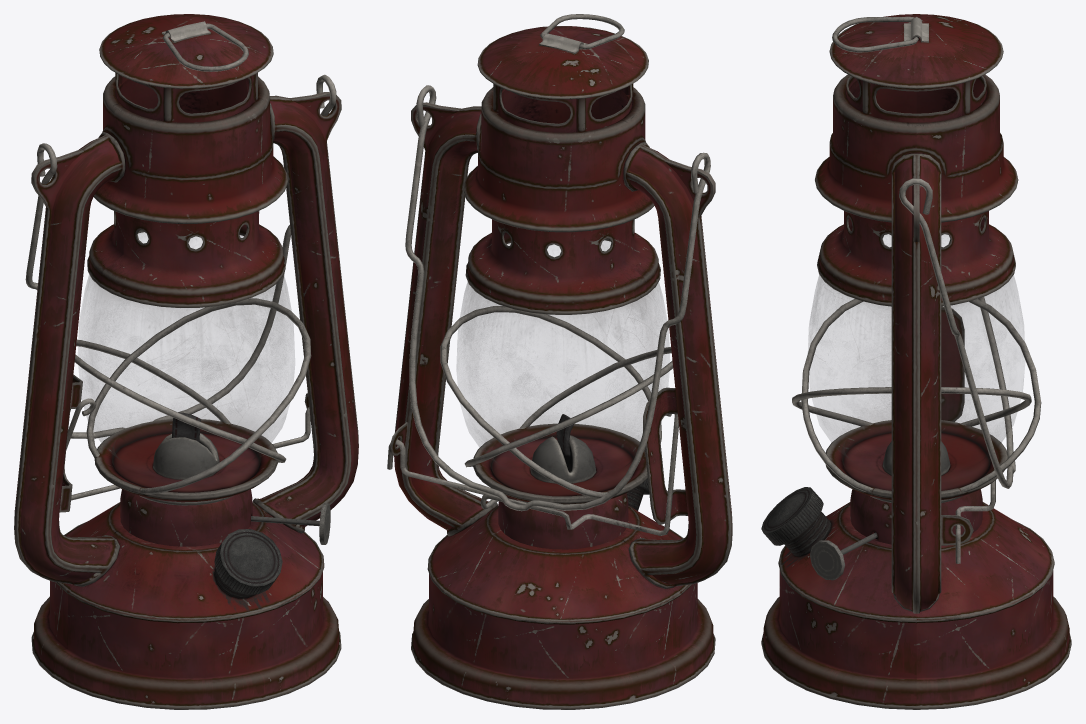
Rendered from lampiao.glb.
3 views of the same model, side by side, from view 1: azimuth 30°, elevation 25°; view 2: azimuth 150°, elevation 25°; view 3: azimuth 270°, elevation 25° (orthographic).
Visible parts, largest first — view 1: Bottom_LOW_solid_0, Handles_LOW_solid_0, Glass_LOW_transparent_0, Top2_LOW_solid_0, Top1_LOW_solid_0, Plate_LOW_solid_0, Cap_LOW_solid_0, Wire1_LOW_solid_0, TankCap_LOW_solid_0, WireMainHandle_LOW_solid_0, Wire2_LOW_solid_0, Top3_LOW_solid_0 (+5 smaller); view 2: Bottom_LOW_solid_0, Handles_LOW_solid_0, Glass_LOW_transparent_0, Top2_LOW_solid_0, Top1_LOW_solid_0, Plate_LOW_solid_0, Cap_LOW_solid_0, WireMainHandle_LOW_solid_0, Wire1_LOW_solid_0, HandleDetais_LOW_solid_0, Wire2_LOW_solid_0, Wire3_LOW_solid_0 (+3 smaller); view 3: Bottom_LOW_solid_0, Glass_LOW_transparent_0, Handles_LOW_solid_0, Top2_LOW_solid_0, Top1_LOW_solid_0, Cap_LOW_solid_0, Plate_LOW_solid_0, WireMainHandle_LOW_solid_0, Wire2_LOW_solid_0, TankCap_LOW_solid_0, HandleDetais_LOW_solid_0, Top3_LOW_solid_0 (+5 smaller).
Boxes of the visible parts, left/top/right/bottom form: Bottom_LOW_solid_0: left=31, top=489, right=341, bottom=709; Handles_LOW_solid_0: left=14, top=92, right=358, bottom=586; Glass_LOW_transparent_0: left=78, top=232, right=294, bottom=491; Top2_LOW_solid_0: left=93, top=76, right=287, bottom=223; Top1_LOW_solid_0: left=87, top=211, right=285, bottom=307; Plate_LOW_solid_0: left=94, top=419, right=277, bottom=502; Cap_LOW_solid_0: left=99, top=14, right=273, bottom=88; Wire1_LOW_solid_0: left=86, top=298, right=311, bottom=494; TankCap_LOW_solid_0: left=214, top=529, right=282, bottom=598; WireMainHandle_LOW_solid_0: left=25, top=74, right=336, bottom=438; Wire2_LOW_solid_0: left=74, top=339, right=286, bottom=462; Top3_LOW_solid_0: left=115, top=73, right=257, bottom=122; Bottom_LOW_solid_0: left=411, top=493, right=715, bottom=709; Handles_LOW_solid_0: left=394, top=102, right=732, bottom=588; Glass_LOW_transparent_0: left=457, top=241, right=669, bottom=495; Top2_LOW_solid_0: left=463, top=87, right=654, bottom=232; Top1_LOW_solid_0: left=465, top=219, right=660, bottom=314; Plate_LOW_solid_0: left=473, top=423, right=647, bottom=504; Cap_LOW_solid_0: left=477, top=26, right=648, bottom=99; WireMainHandle_LOW_solid_0: left=405, top=85, right=710, bottom=511; Wire1_LOW_solid_0: left=440, top=306, right=661, bottom=498; HandleDetais_LOW_solid_0: left=389, top=387, right=687, bottom=524; Wire2_LOW_solid_0: left=464, top=347, right=673, bottom=467; Wire3_LOW_solid_0: left=387, top=414, right=678, bottom=535; Bottom_LOW_solid_0: left=761, top=489, right=1071, bottom=709; Glass_LOW_transparent_0: left=808, top=234, right=1024, bottom=490; Handles_LOW_solid_0: left=891, top=153, right=941, bottom=613; Top2_LOW_solid_0: left=815, top=74, right=1018, bottom=222; Top1_LOW_solid_0: left=817, top=211, right=1015, bottom=306; Cap_LOW_solid_0: left=829, top=14, right=1003, bottom=88; Plate_LOW_solid_0: left=826, top=420, right=1008, bottom=499; WireMainHandle_LOW_solid_0: left=899, top=178, right=1015, bottom=488; Wire2_LOW_solid_0: left=801, top=299, right=1041, bottom=492; TankCap_LOW_solid_0: left=761, top=487, right=831, bottom=556; HandleDetais_LOW_solid_0: left=941, top=306, right=973, bottom=545; Top3_LOW_solid_0: left=846, top=76, right=986, bottom=122.
Size of the model in its own units: 0.1908 by 0.33 by 0.1497.
Materials: 2 (2 with a texture image).
